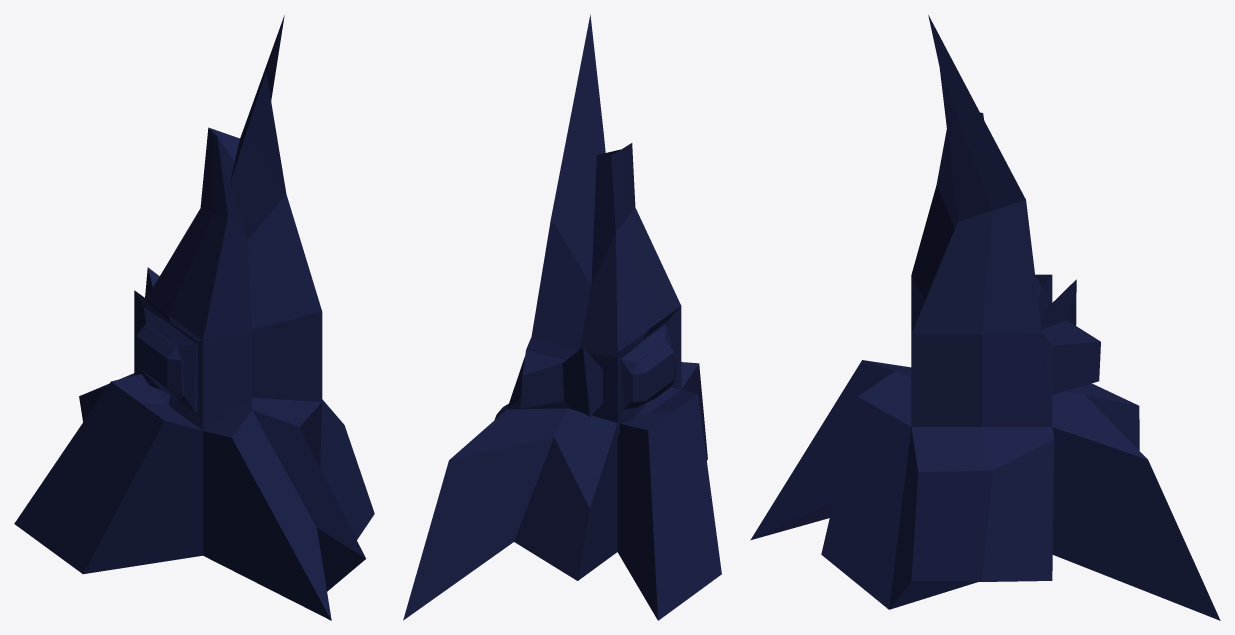
File: cake_spike_med.fbx
3 views of the same model, side by side, from view 1: azimuth 30°, elevation 25°; view 2: azimuth 150°, elevation 25°; view 3: azimuth 270°, elevation 25° (orthographic). The views are drawn at different scales.
Visible parts, largest first — view 1: cake_spike_med; view 2: cake_spike_med; view 3: cake_spike_med.
Boxes of the visible parts, <box> form: cake_spike_med: <box>14,15,374,620</box>; cake_spike_med: <box>403,14,721,620</box>; cake_spike_med: <box>750,15,1220,620</box>.
Size of the model in its own units: 0.5762 by 0.904 by 1.25.
